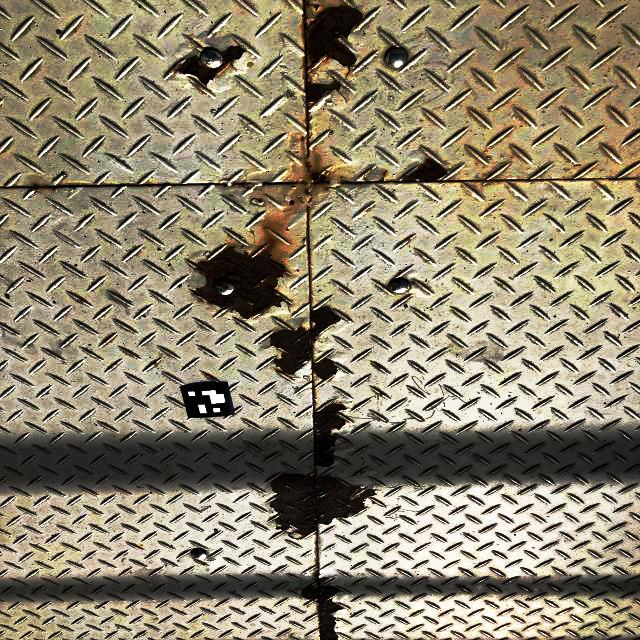Corrosion: (270, 474, 376, 538), (195, 247, 287, 318), (270, 306, 341, 375), (303, 4, 363, 66), (176, 45, 244, 89), (301, 576, 341, 640), (313, 404, 346, 467), (403, 158, 447, 181), (306, 80, 341, 104), (312, 358, 337, 380), (312, 359, 337, 380), (309, 172, 329, 183), (312, 5, 321, 11)
